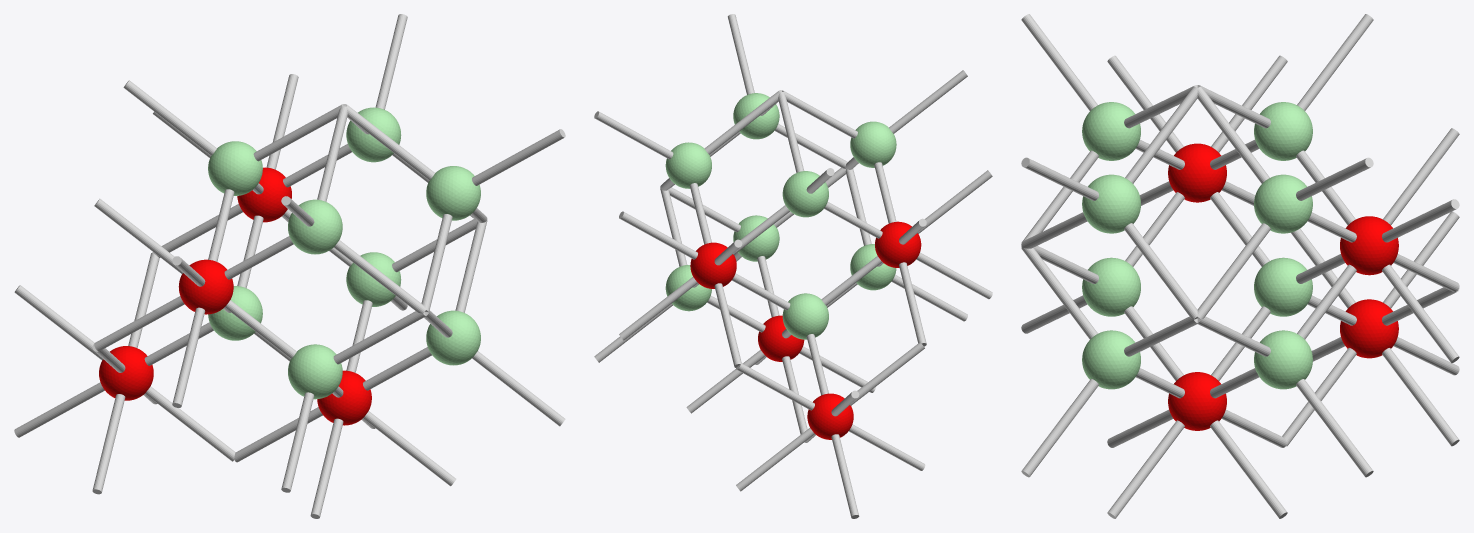
The model's file is structure_mpstyle.glb.
3 views of the same model, side by side, from view 1: azimuth 30°, elevation 25°; view 2: azimuth 150°, elevation 25°; view 3: azimuth 270°, elevation 25° (orthographic). The views are drawn at different scales.
Visible parts, largest first — view 1: world; view 2: world; view 3: world.
Boxes of the visible parts, x1,y1,x2,y2 form: world: (14, 14, 565, 518); world: (594, 14, 992, 518); world: (1021, 14, 1459, 518).
Size of the model in its own units: 5.93 by 5.93 by 5.93.
